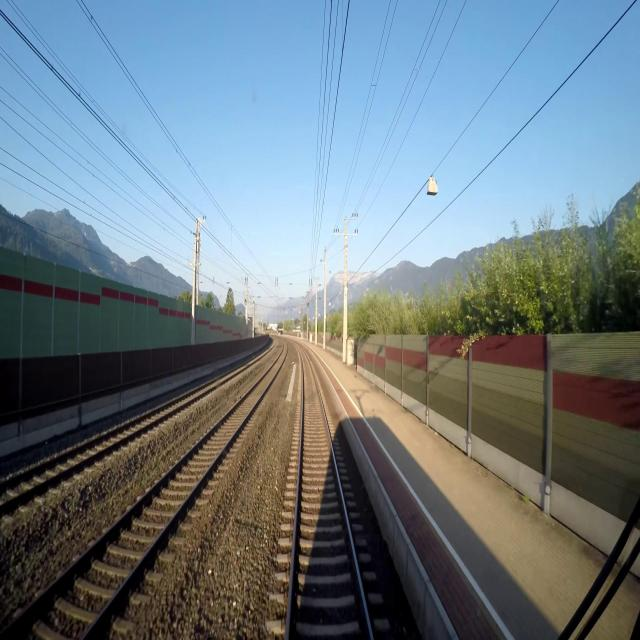rail-track: (0, 344, 286, 639), (0, 386, 207, 501), (289, 350, 369, 639)
